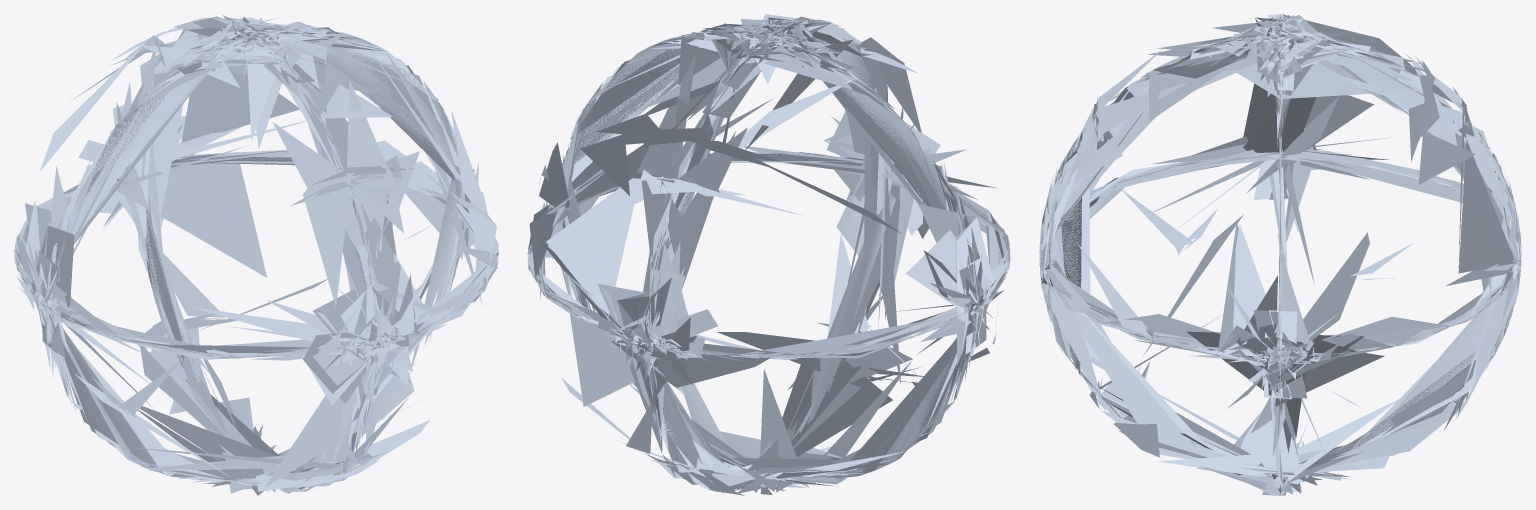
3 views of the same model, side by side, from view 1: azimuth 30°, elevation 25°; view 2: azimuth 150°, elevation 25°; view 3: azimuth 270°, elevation 25° (orthographic).
Visible parts, largest first — view 1: 12-12-structural; view 2: 12-12-structural; view 3: 12-12-structural.
Part boxes in pixels (x1,y1,x2,y2): 12-12-structural: (14, 15, 498, 495); 12-12-structural: (527, 14, 1010, 495); 12-12-structural: (1039, 14, 1521, 495).
Bounding box in the file's own units: 2 × 2 × 2.
